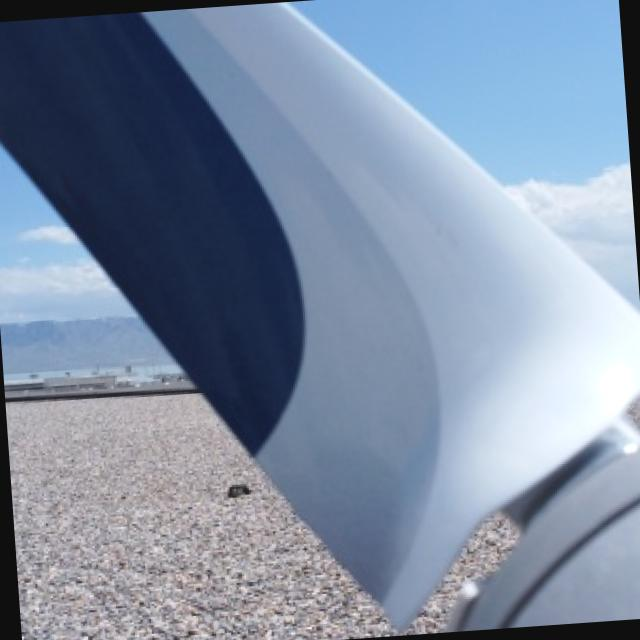healthy: (0, 3, 640, 628)
